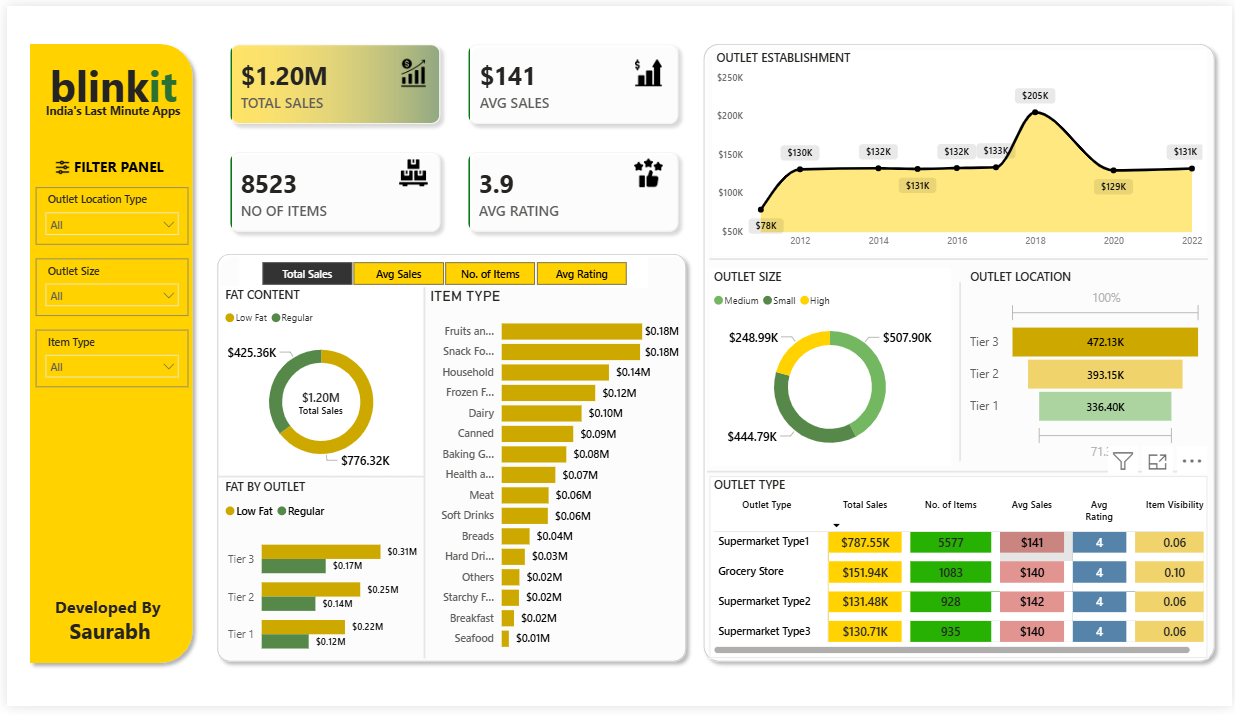

This screenshot's page, from the dashboard's own definition file:
{"tool":"powerbi","page":{"name":"Page 1","canvas":[1400,800],"ordinal":0},"visuals":[{"type":"shape","box":[17.5,35,204,725.7],"z":0},{"type":"textbox","box":[32.2,52.3,174.3,112.6],"z":1000},{"type":"textbox","box":[30.8,105.9,175.6,32.2],"z":2000},{"type":"cardVisual","fields":{"Data":["BlinkIT Grocery Data.Total Sales","BlinkIT Grocery Data.Avg Sales","BlinkIT Grocery Data.No. of Items","BlinkIT Grocery Data.Avg Rating"]},"box":[227,15.6,569.7,270.8],"z":3000},{"type":"image","box":[445.7,60,37.1,32.9],"z":4000},{"type":"image","box":[714.3,60,37.1,32.9],"z":5000},{"type":"image","box":[445.7,174.3,37.1,32.9],"z":6000},{"type":"image","box":[714.3,174.3,37.1,32.9],"z":7000},{"type":"shape","box":[231.1,274.3,553.6,483.9],"z":8000},{"type":"donutChart","title":"FAT CONTENT","fields":{"Y":["BlinkIT Grocery Data.Total Sales"],"Category":["BlinkIT Grocery Data.Item Fat Content"]},"box":[244.3,320,230,220],"z":9000},{"type":"slicer","fields":{"Values":["Metrics.Metrics"]},"box":[265.4,285.5,466.5,36.2],"z":10000},{"type":"cardVisual","fields":{"Data":["BlinkIT Grocery Data.Total Sales"]},"box":[290,412.9,137.1,81.4],"z":11000},{"type":"clusteredBarChart","title":"FAT BY OUTLET","fields":{"Y":["BlinkIT Grocery Data.Total Sales"],"Category":["BlinkIT Grocery Data.Outlet Location Type"],"Series":["BlinkIT Grocery Data.Item Fat Content"]},"box":[244.3,540,230,218.6],"z":12000},{"type":"shape","box":[241.4,528.6,235.7,18.6],"z":13000},{"type":"shape","box":[464.3,321.4,25.7,424.3],"z":14000},{"type":"barChart","title":"ITEM TYPE","fields":{"Y":["BlinkIT Grocery Data.Total Sales"],"Category":["BlinkIT Grocery Data.Item Type"]},"box":[478.6,321.4,294.3,425.7],"z":15000},{"type":"shape","box":[786.9,34.9,601.9,723.9],"z":16000},{"type":"lineChart","title":"OUTLET ESTABLISHMENT","fields":{"Y":["BlinkIT Grocery Data.Total Sales"],"Category":["BlinkIT Grocery Data.Outlet Establishment Year"]},"box":[805.7,50,565.7,235.7],"z":17000},{"type":"shape","box":[802.9,280,570,18.6],"z":18000},{"type":"donutChart","title":"OUTLET SIZE","fields":{"Y":["BlinkIT Grocery Data.Total Sales"],"Category":["BlinkIT Grocery Data.Outlet Size"]},"box":[802.9,300.4,275.7,225.7],"z":19000},{"type":"shape","box":[1082.9,315.7,12.9,204.3],"z":20000},{"type":"funnel","title":"OUTLET LOCATION","fields":{"Y":["Sum(BlinkIT Grocery Data.Sales)"],"Category":["BlinkIT Grocery Data.Outlet Location Type"]},"box":[1095.7,300.4,275.7,224.3],"z":21000},{"type":"shape","box":[800,522.9,570,18.6],"z":22000},{"type":"pivotTable","title":"OUTLET TYPE","fields":{"Rows":["BlinkIT Grocery Data.Outlet Type"],"Values":["BlinkIT Grocery Data.Total Sales","BlinkIT Grocery Data.No. of Items","BlinkIT Grocery Data.Avg Sales","BlinkIT Grocery Data.Avg Rating","Avg(BlinkIT Grocery Data.Item Visibility)"]},"box":[802.9,537.1,570,208.6],"z":23000},{"type":"slicer","fields":{"Values":["BlinkIT Grocery Data.Outlet Location Type"]},"box":[32.9,206.7,174.3,65.7],"z":24000},{"type":"slicer","fields":{"Values":["BlinkIT Grocery Data.Outlet Size"]},"box":[32.9,288.1,174.3,65.7],"z":25000},{"type":"slicer","fields":{"Values":["BlinkIT Grocery Data.Item Type"]},"box":[32.9,370,174.3,65.7],"z":26000},{"type":"textbox","box":[71.4,167.1,135.7,40],"z":27000},{"type":"image","box":[54.3,160,18.6,48.6],"z":28000},{"type":"textbox","box":[45.7,668.6,144.3,77.1],"z":28001}]}

Visuals, with their boxes in screenshot pixels (x1, y1, x2, y2), scaled from the page's 1400x800 canvas onto the 1235x715 screenshot:
shape: x1=15, y1=31, x2=195, y2=680
textbox: x1=28, y1=47, x2=182, y2=147
textbox: x1=27, y1=95, x2=182, y2=123
cardVisual - BlinkIT Grocery Data.Total Sales x BlinkIT Grocery Data.Avg Sales: x1=200, y1=14, x2=703, y2=256
image: x1=393, y1=54, x2=426, y2=83
image: x1=630, y1=54, x2=663, y2=83
image: x1=393, y1=156, x2=426, y2=185
image: x1=630, y1=156, x2=663, y2=185
shape: x1=204, y1=245, x2=692, y2=678
"FAT CONTENT" donutChart: x1=216, y1=286, x2=418, y2=483
slicer - Metrics.Metrics: x1=234, y1=255, x2=646, y2=288
cardVisual - BlinkIT Grocery Data.Total Sales: x1=256, y1=369, x2=377, y2=442
"FAT BY OUTLET" clusteredBarChart: x1=216, y1=483, x2=418, y2=678
shape: x1=213, y1=472, x2=421, y2=489
shape: x1=410, y1=287, x2=432, y2=666
"ITEM TYPE" barChart: x1=422, y1=287, x2=682, y2=668
shape: x1=694, y1=31, x2=1225, y2=678
"OUTLET ESTABLISHMENT" lineChart: x1=711, y1=45, x2=1210, y2=255
shape: x1=708, y1=250, x2=1211, y2=267
"OUTLET SIZE" donutChart: x1=708, y1=268, x2=951, y2=470
shape: x1=955, y1=282, x2=967, y2=465
"OUTLET LOCATION" funnel: x1=967, y1=268, x2=1210, y2=469
shape: x1=706, y1=467, x2=1209, y2=484
"OUTLET TYPE" pivotTable: x1=708, y1=480, x2=1211, y2=666
slicer - BlinkIT Grocery Data.Outlet Location Type: x1=29, y1=185, x2=183, y2=243
slicer - BlinkIT Grocery Data.Outlet Size: x1=29, y1=257, x2=183, y2=316
slicer - BlinkIT Grocery Data.Item Type: x1=29, y1=331, x2=183, y2=389
textbox: x1=63, y1=149, x2=183, y2=185
image: x1=48, y1=143, x2=64, y2=186
textbox: x1=40, y1=598, x2=168, y2=666
